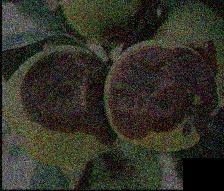rotten apple: (3, 42, 111, 171), (103, 38, 217, 156)
